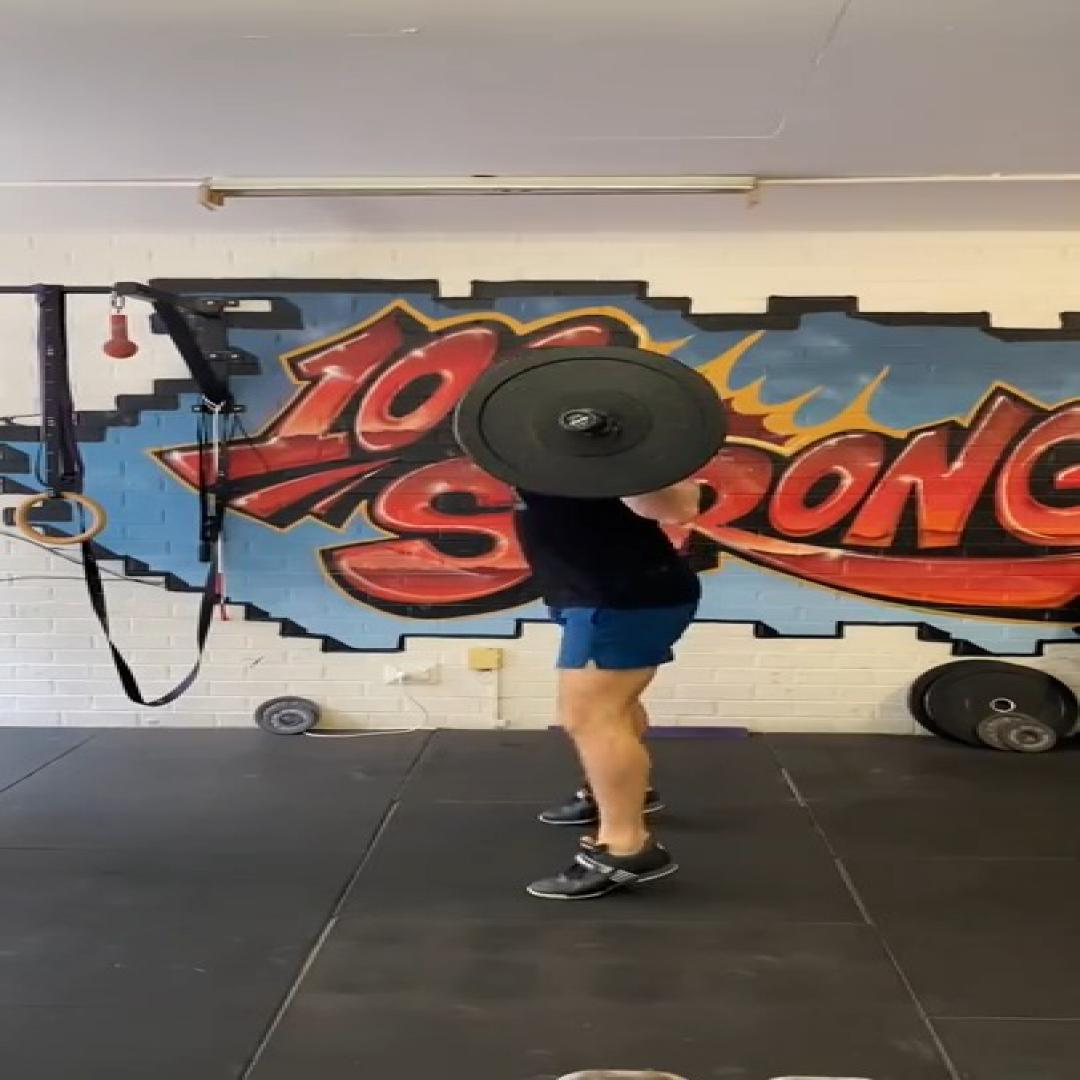Bar: (556, 407, 601, 432)
Barbell: (452, 346, 726, 498)
